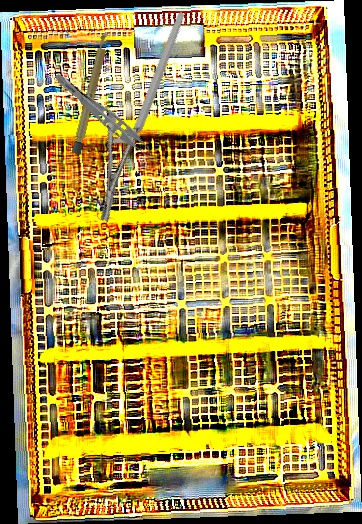Needle Holder: (45, 11, 242, 225)
Scalpel Handle: (71, 31, 112, 155)
Tissue Forceps: (46, 70, 160, 165)
